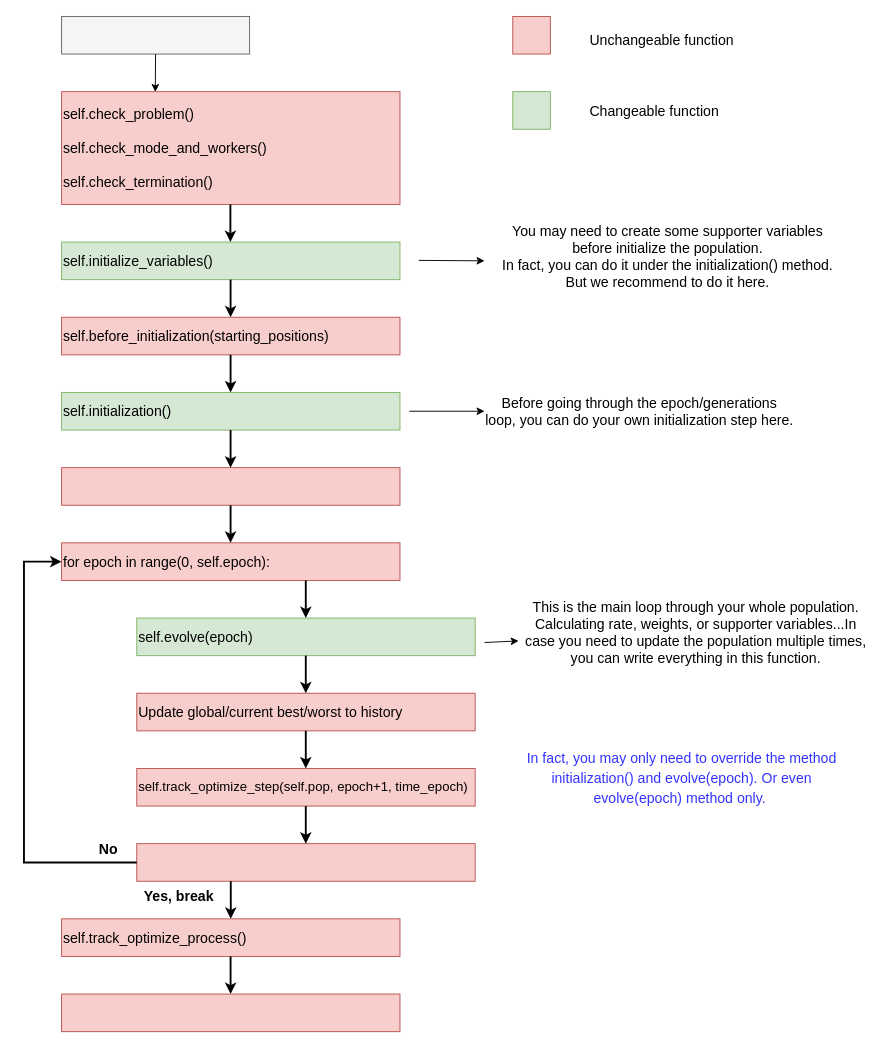
This 885x1048 diagram has some shape labels left out. The centre of each missing label's shape, as x and y in pixels:
"Check termination condition (if reached, break)" goes at pixel 305 862.
"model.solve(problem)" goes at pixel 155 35.
"Return final-global-best-position and its fitness value" goes at pixel 230 1012.
"self.after_initialization()" goes at pixel 230 486.
